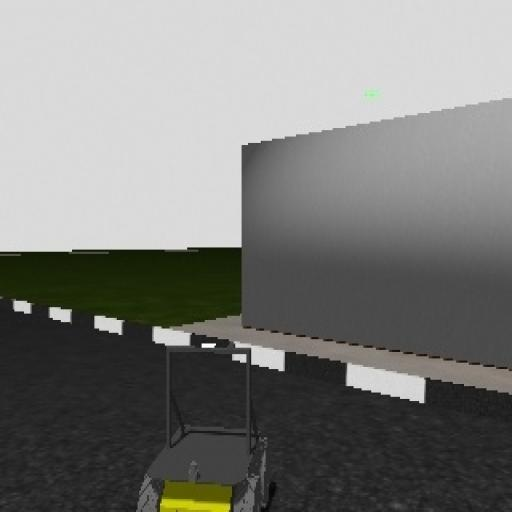huskya200: (135, 342, 268, 512)
